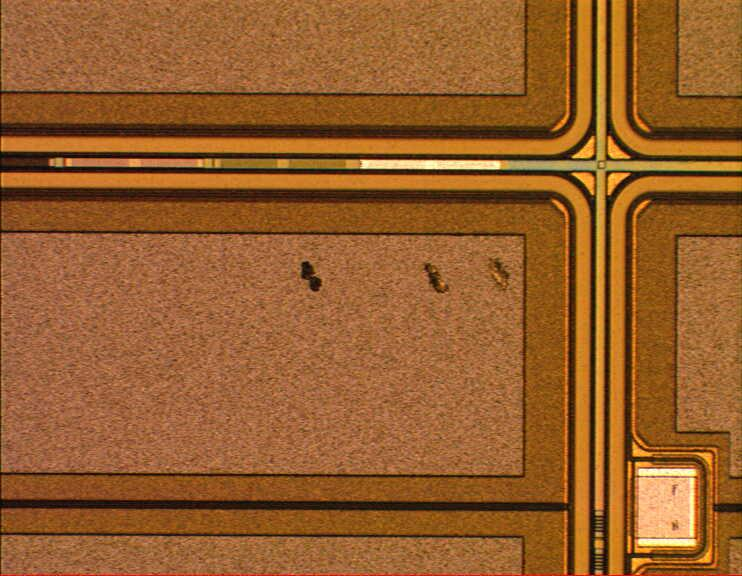SCRATCH: (281, 252, 543, 302)
